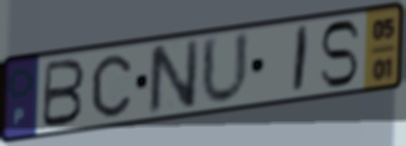B: (39, 57, 88, 131)
C: (89, 52, 134, 119)
I: (290, 23, 312, 97)
N: (147, 36, 201, 118)
S: (317, 18, 363, 90)
U: (199, 29, 251, 109)
